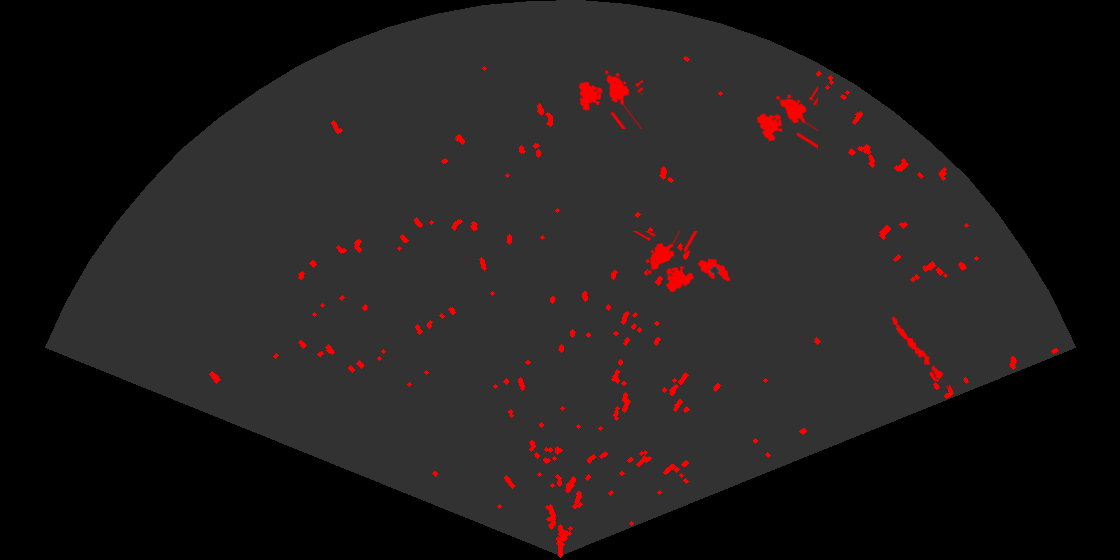AUV: (696, 257, 732, 283)
cage: (631, 231, 699, 294), (755, 84, 818, 150), (577, 69, 643, 129)
chain: (890, 315, 949, 389)
